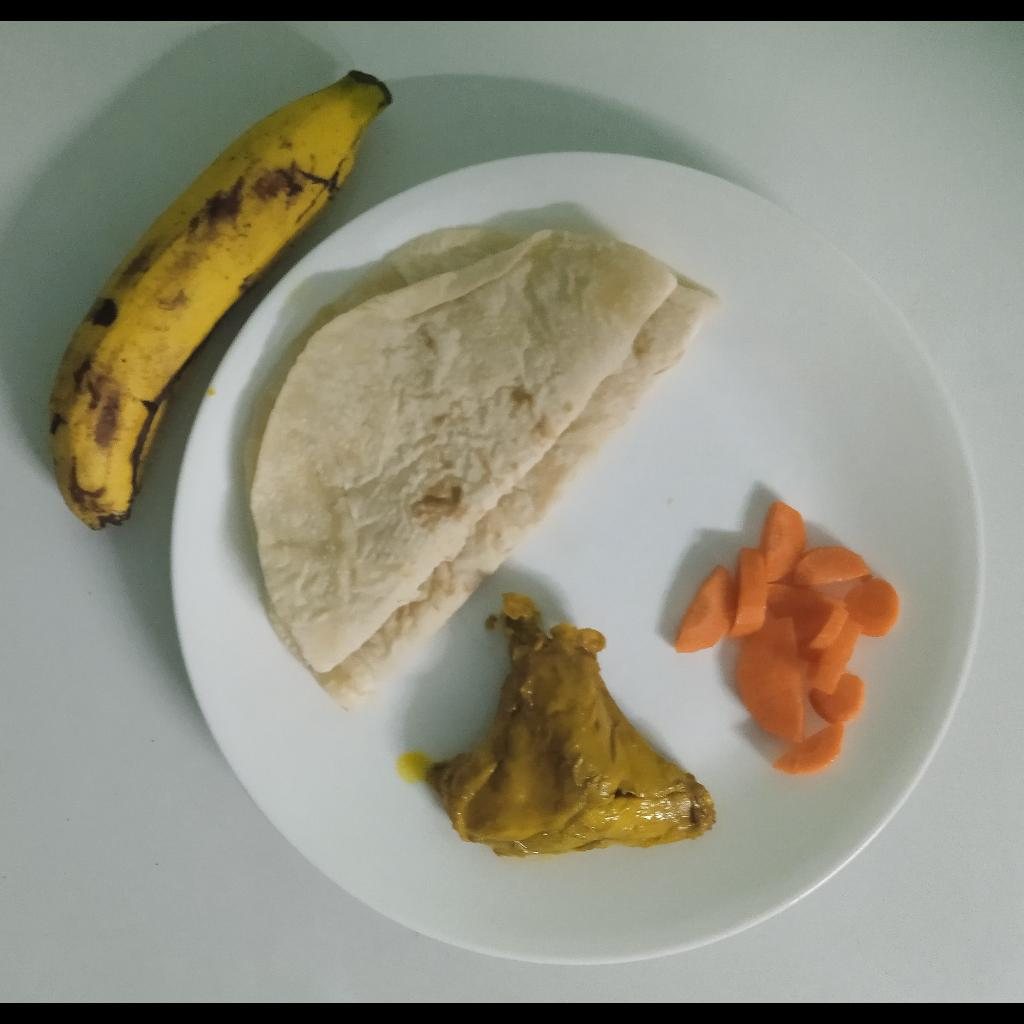banana: (52, 67, 395, 535)
carrot: (671, 500, 900, 780)
chicken: (424, 595, 719, 858)
ruti: (241, 223, 720, 713)
